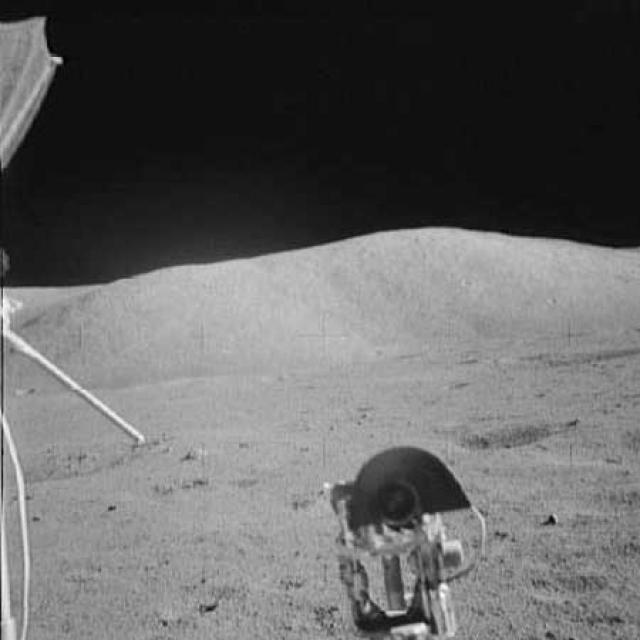artifact: (316, 438, 485, 639), (2, 300, 151, 444), (0, 19, 69, 177), (0, 448, 40, 639)
crater: (4, 446, 129, 486), (446, 417, 580, 454), (491, 348, 639, 372)
